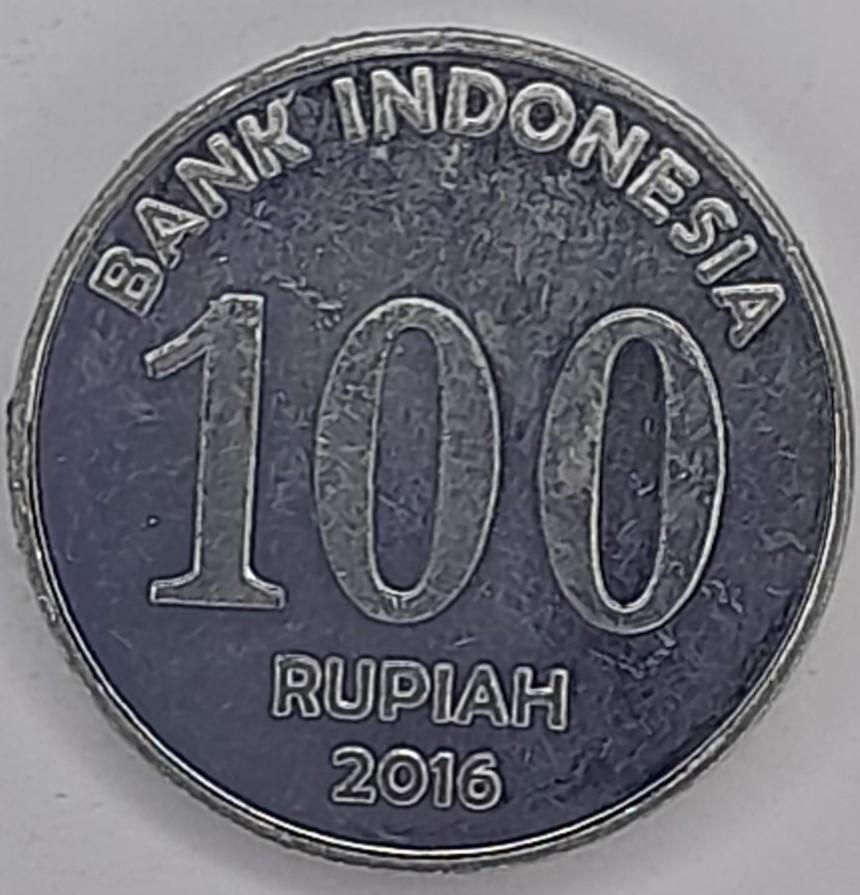coin_100_e2016: (0, 20, 859, 875)
